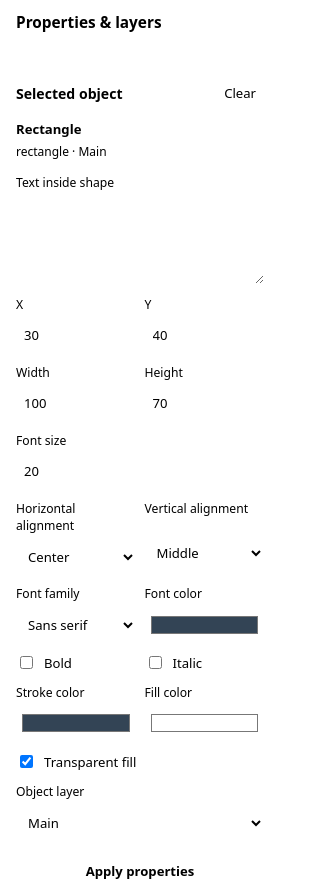
Test: canvas properties and layers › reports invalid numbers without committing a document
Clear the number field labelled "X" at (76, 335), box [16, 318, 136, 352]
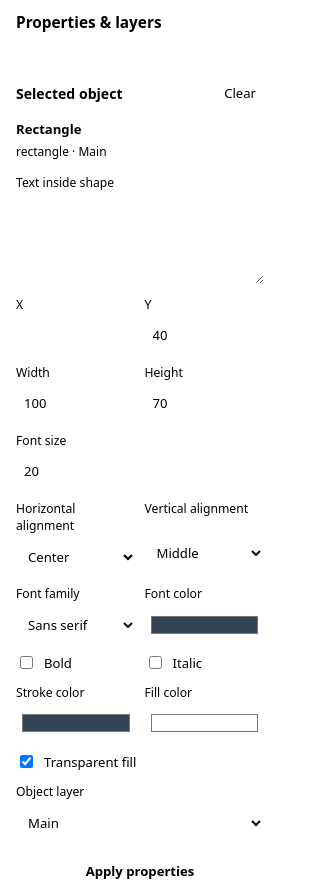
Click the button "Apply properties".
click(140, 871)  # box [16, 853, 264, 889]
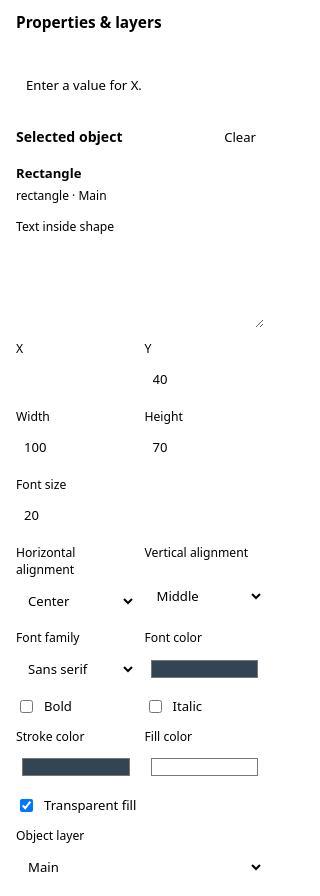
Expected: the message shows "Enter a value for X", [26, 76, 142, 94]
